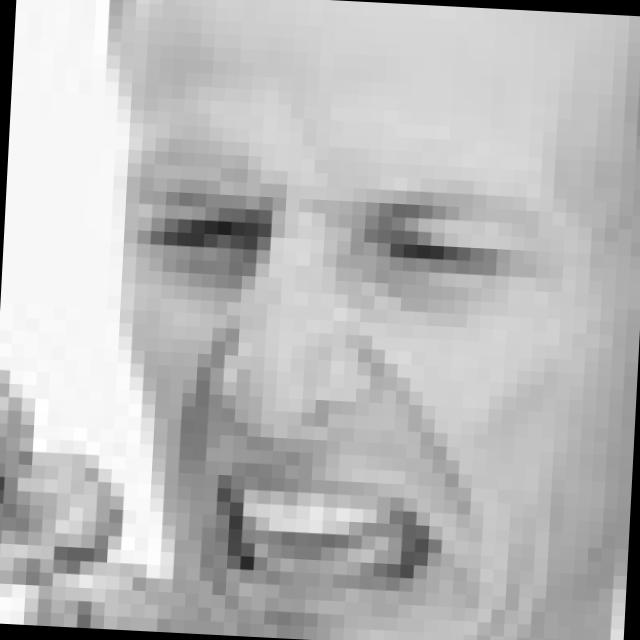disgust: (108, 150, 548, 636)
